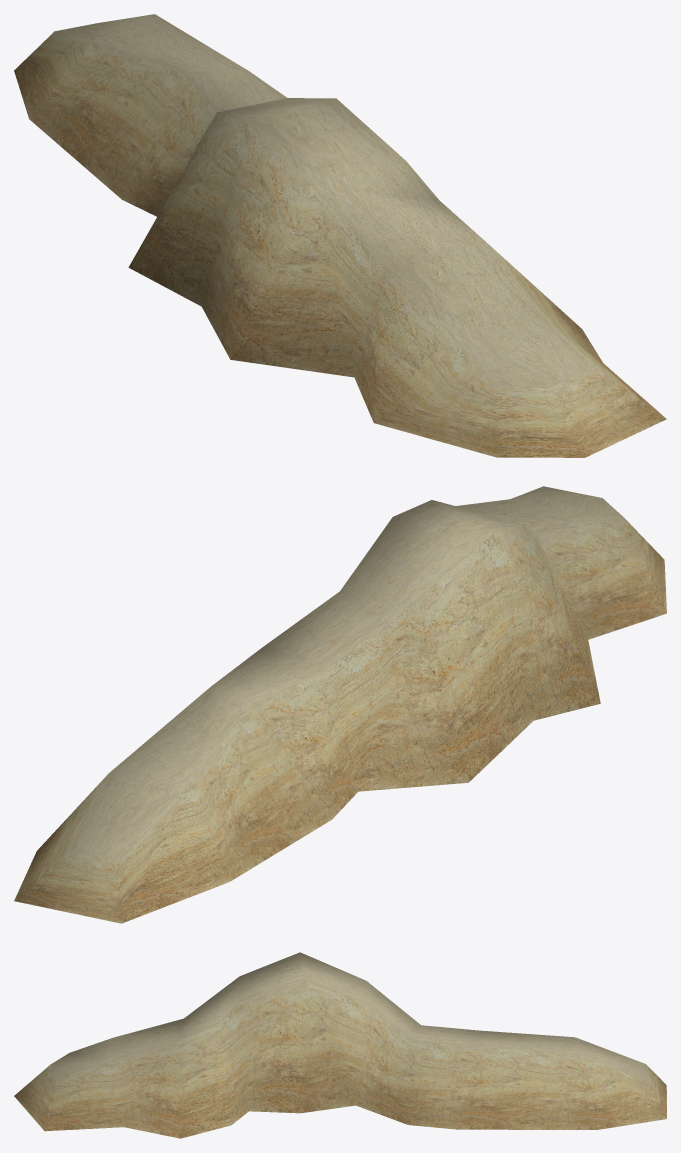
The model's file is rock_beach_spine_a2_l4.fbx.
3 views of the same model, one above another, from view 1: azimuth 30°, elevation 25°; view 2: azimuth 150°, elevation 25°; view 3: azimuth 270°, elevation 25° (orthographic). The views are drawn at different scales.
Parts seen in each view (by area): view 1: mesh_node; view 2: mesh_node; view 3: mesh_node.
Boxes of the visible parts, <box> form: mesh_node: <box>14,14,666,457</box>; mesh_node: <box>14,486,666,923</box>; mesh_node: <box>14,952,666,1138</box>.
Bounding box in the file's own units: 5.49 × 3.38 × 17.11.
